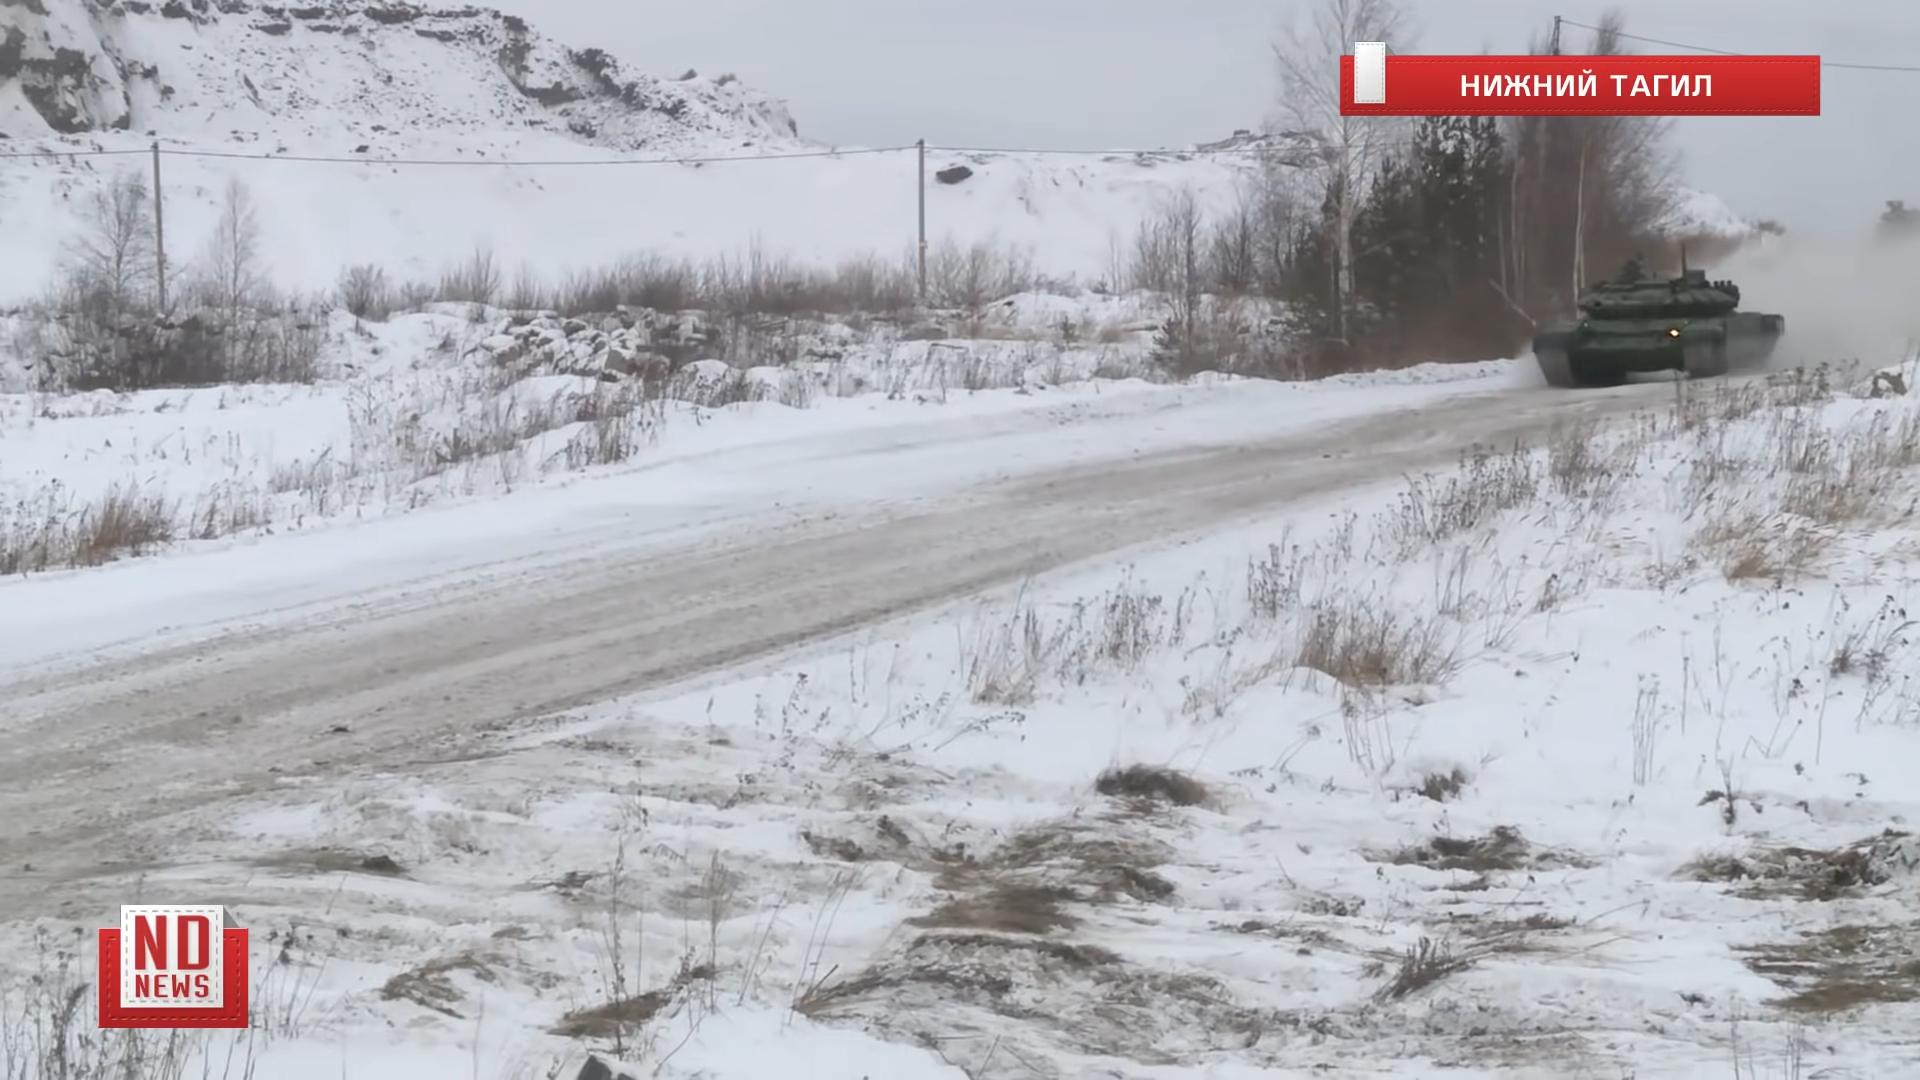tank: (1528, 268, 1784, 388)
